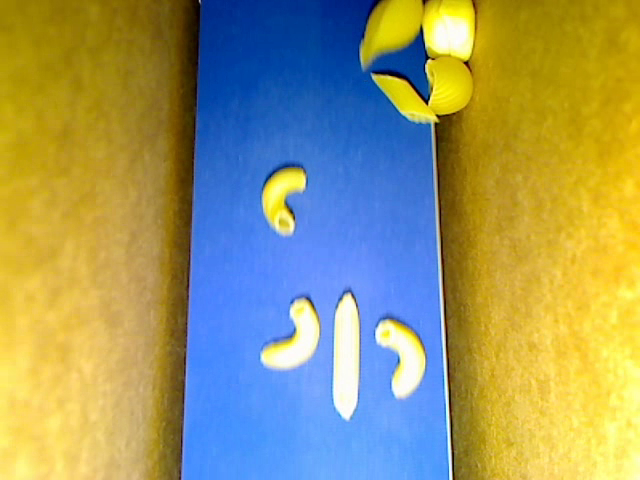elbow: (260, 296, 321, 371), (374, 318, 427, 399), (260, 165, 305, 236)
penne: (330, 293, 360, 423), (369, 72, 438, 126)
shell: (358, 1, 423, 71), (424, 57, 474, 118)
